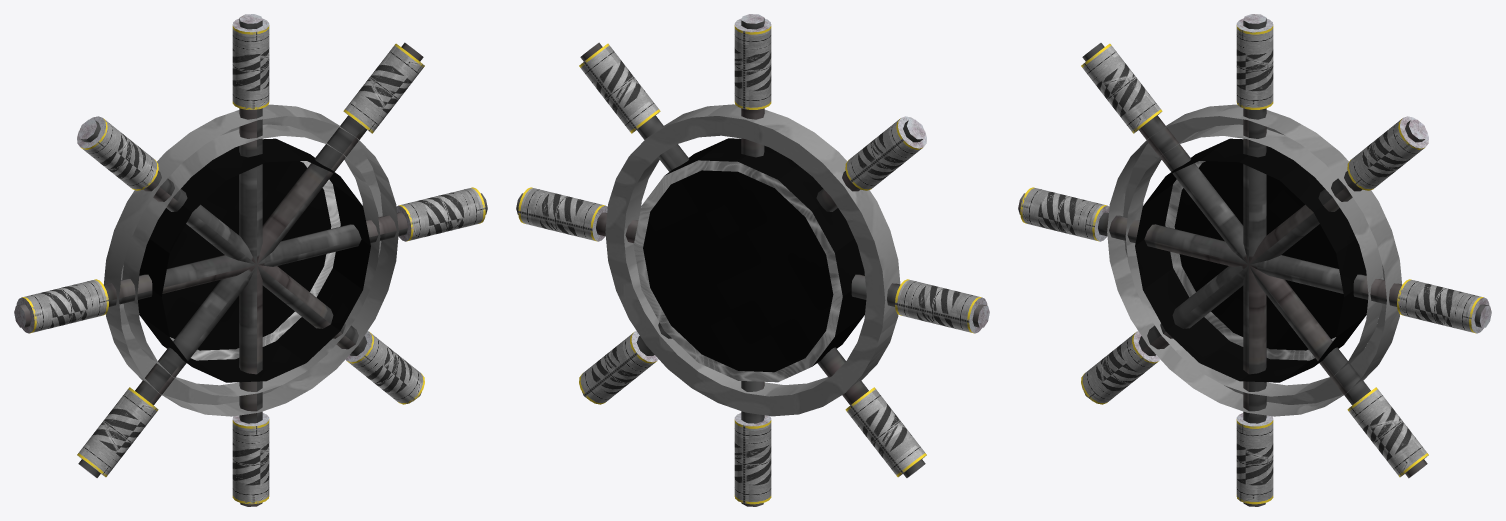
Rendered from shipsWheel.obj.
3 renders of one model, left to right at view 1: azimuth 30°, elevation 25°; view 2: azimuth 150°, elevation 25°; view 3: azimuth 330°, elevation 25°, orthographic.
Parts seen in each view (by area): view 1: Cylinder.004_Cylinder.022; view 2: Cylinder.004_Cylinder.022; view 3: Cylinder.004_Cylinder.022.
Boxes of the visible parts, left/top/right/bottom form: Cylinder.004_Cylinder.022: left=14, top=14, right=487, bottom=506; Cylinder.004_Cylinder.022: left=516, top=14, right=989, bottom=506; Cylinder.004_Cylinder.022: left=1018, top=14, right=1491, bottom=506.
Size of the model in its own units: 0.0376 by 0.0376 by 0.00426.
